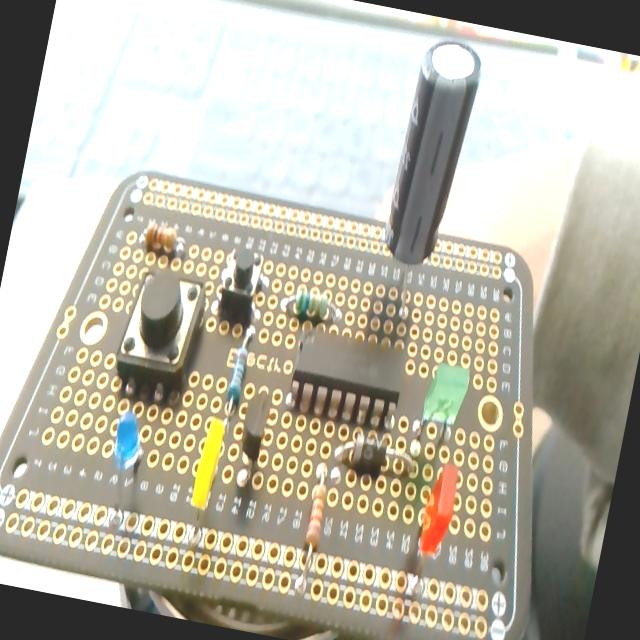Electrolytic capacitor: (367, 35, 485, 328)
IC: (286, 325, 412, 430)
diode: (332, 428, 418, 481)
led: (401, 463, 460, 618), (182, 412, 236, 532), (97, 409, 152, 526), (414, 352, 481, 445)
resistor: (292, 468, 334, 594), (274, 278, 356, 332), (222, 324, 257, 410), (140, 219, 188, 261)
switch: (112, 264, 210, 396), (212, 242, 270, 326)
transistor: (229, 386, 281, 494)
